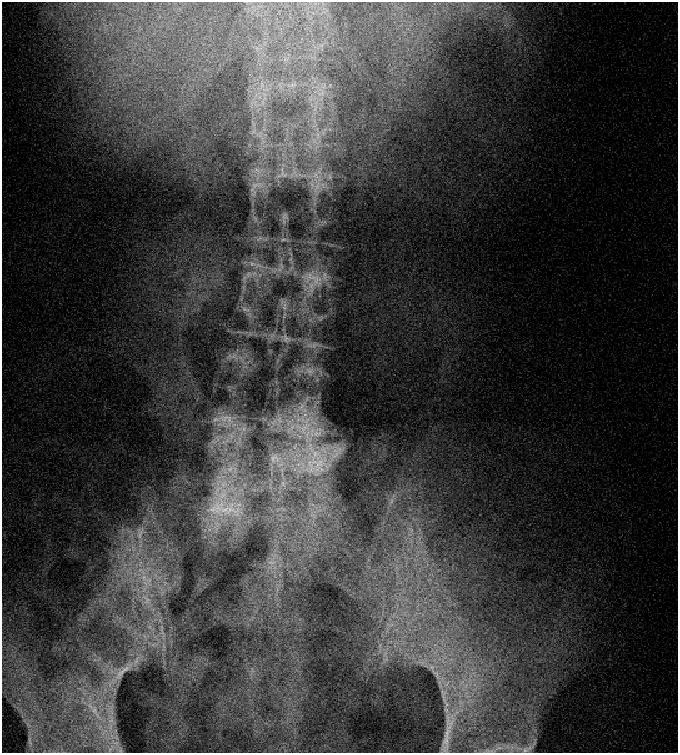lumbar scoliosis: (203, 113, 340, 504)
